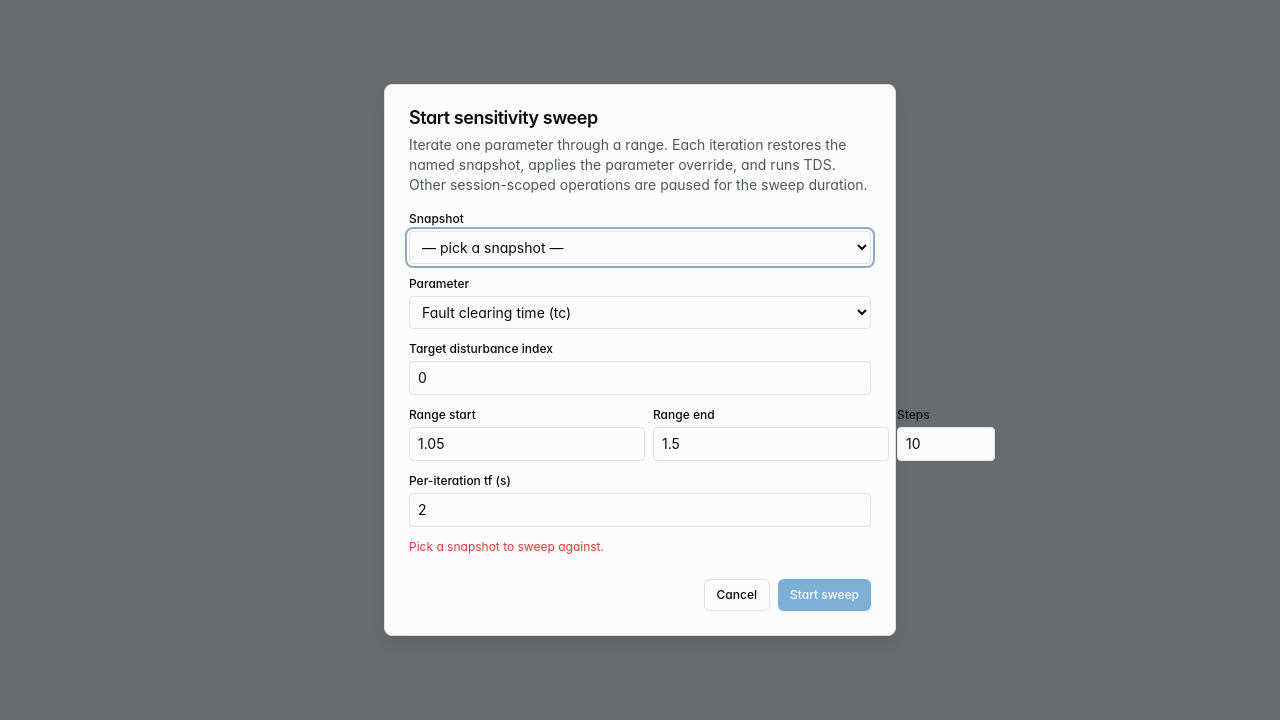
Test case: <SweepDialog /> — Run-readiness gates (v2.0 polish, Unit 4) › confirm is disabled with the sweep-in-progress tooltip when a sweep is already active
Select "snap-A (1 disturbances)" in the dropdown with test id "sweep-dialog-snapshot": (640, 248) [409,231,871,264]
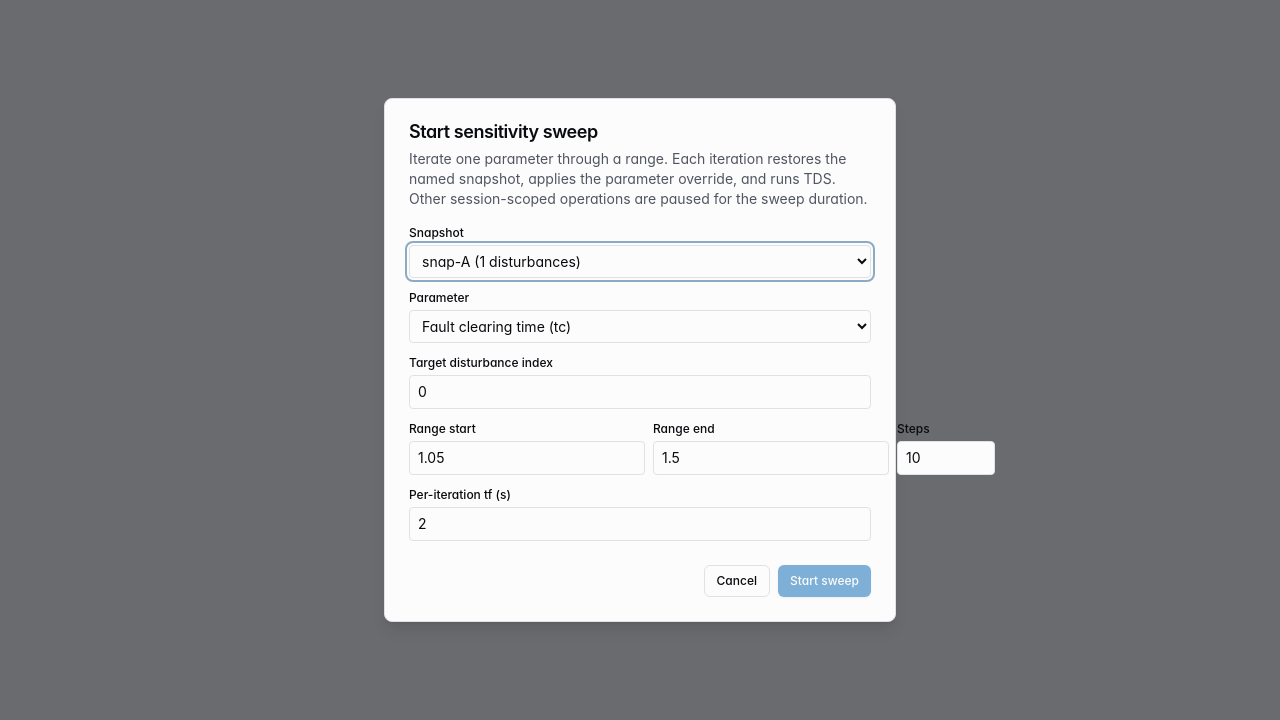
Hover over the element showing "Start sweep": (824, 581) [778,565,871,597]
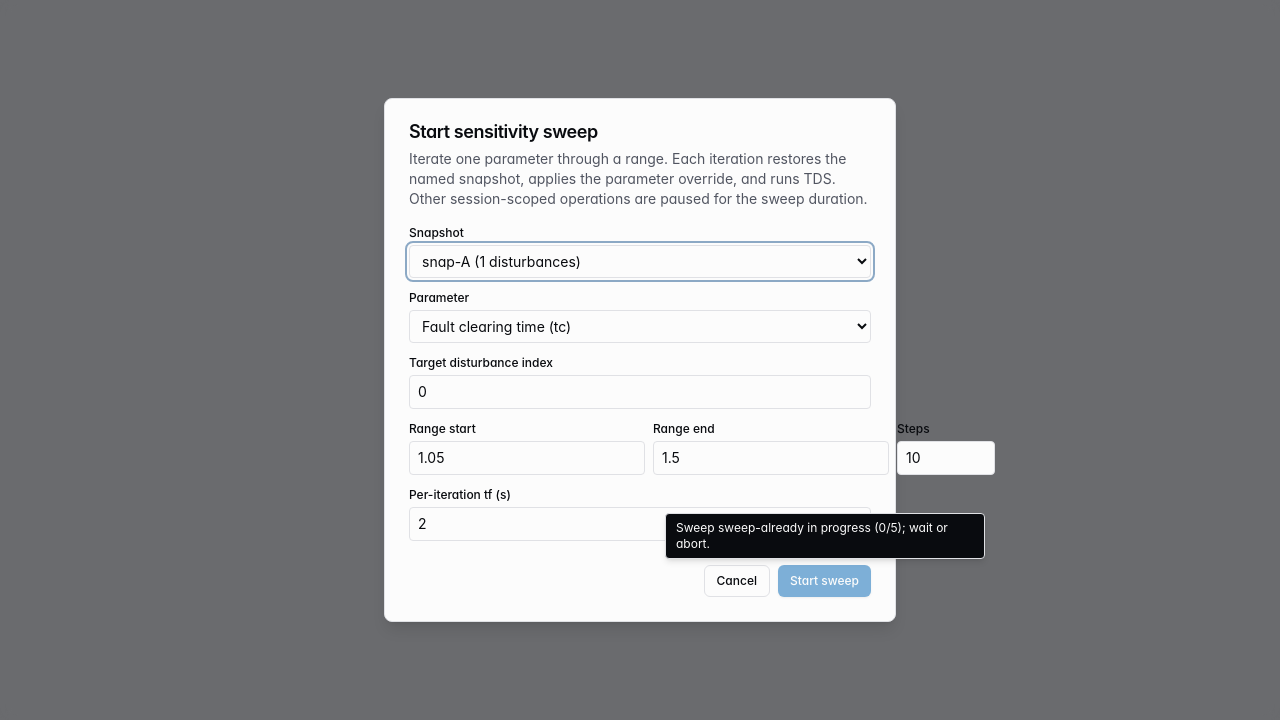
Check: the tooltip "Sweep sweep-already in progress (0/5); wait or abort." is shown, box [665,513,985,559]
